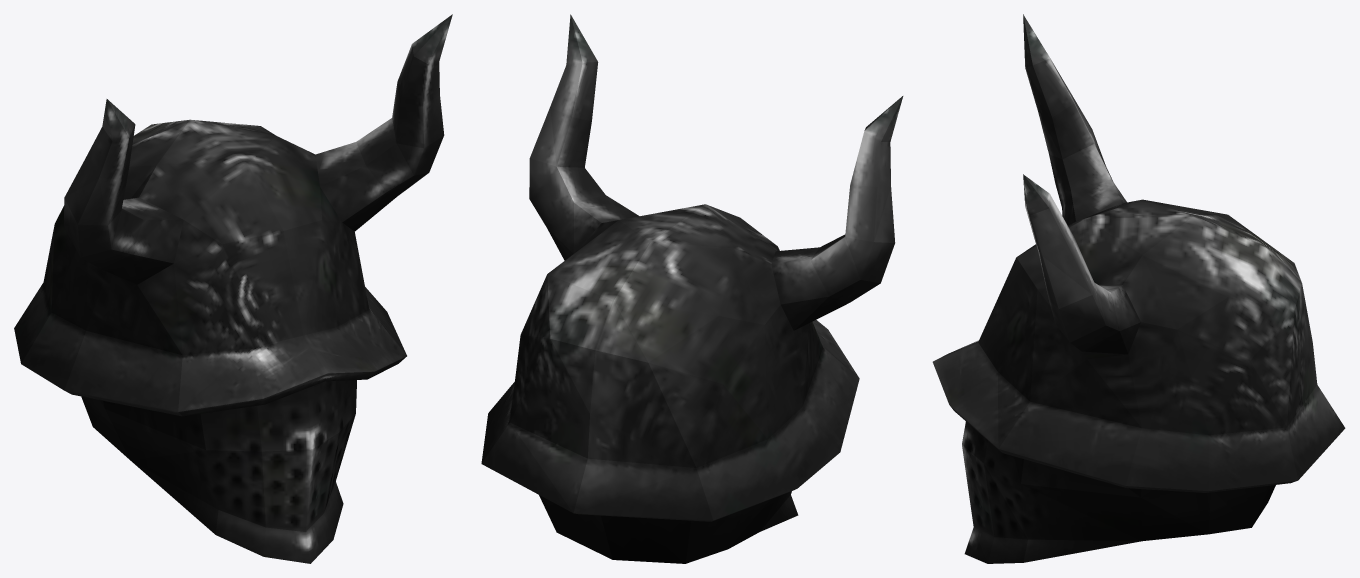
The model's file is HELMLOWCOW2.glb.
3 renders of one model, left to right at view 1: azimuth 30°, elevation 25°; view 2: azimuth 150°, elevation 25°; view 3: azimuth 270°, elevation 25°, orthographic. The views are drawn at different scales.
Parts seen in each view (by area): view 1: HELMLOWCOW2; view 2: HELMLOWCOW2; view 3: HELMLOWCOW2.
Boxes of the visible parts, left/top/right/bottom form: HELMLOWCOW2: left=14, top=14, right=452, bottom=563; HELMLOWCOW2: left=481, top=14, right=903, bottom=563; HELMLOWCOW2: left=932, top=14, right=1345, bottom=563.
Size of the model in its own units: 0.3215 by 0.4067 by 0.331.
1 material, 1 textured.
